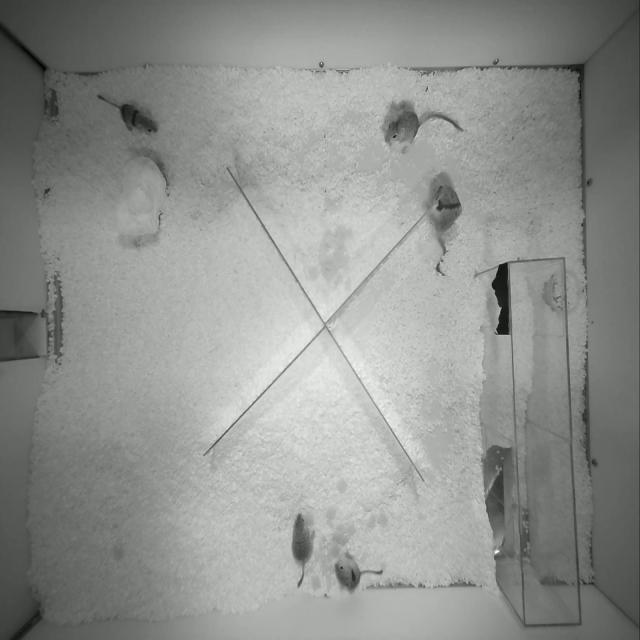adult_back: (385, 110, 462, 152)
adult_front: (431, 184, 462, 255)
pup_fluffy: (292, 513, 314, 587)
pup_h_stripe: (98, 95, 158, 132)
pup_spotted: (334, 550, 383, 591)
